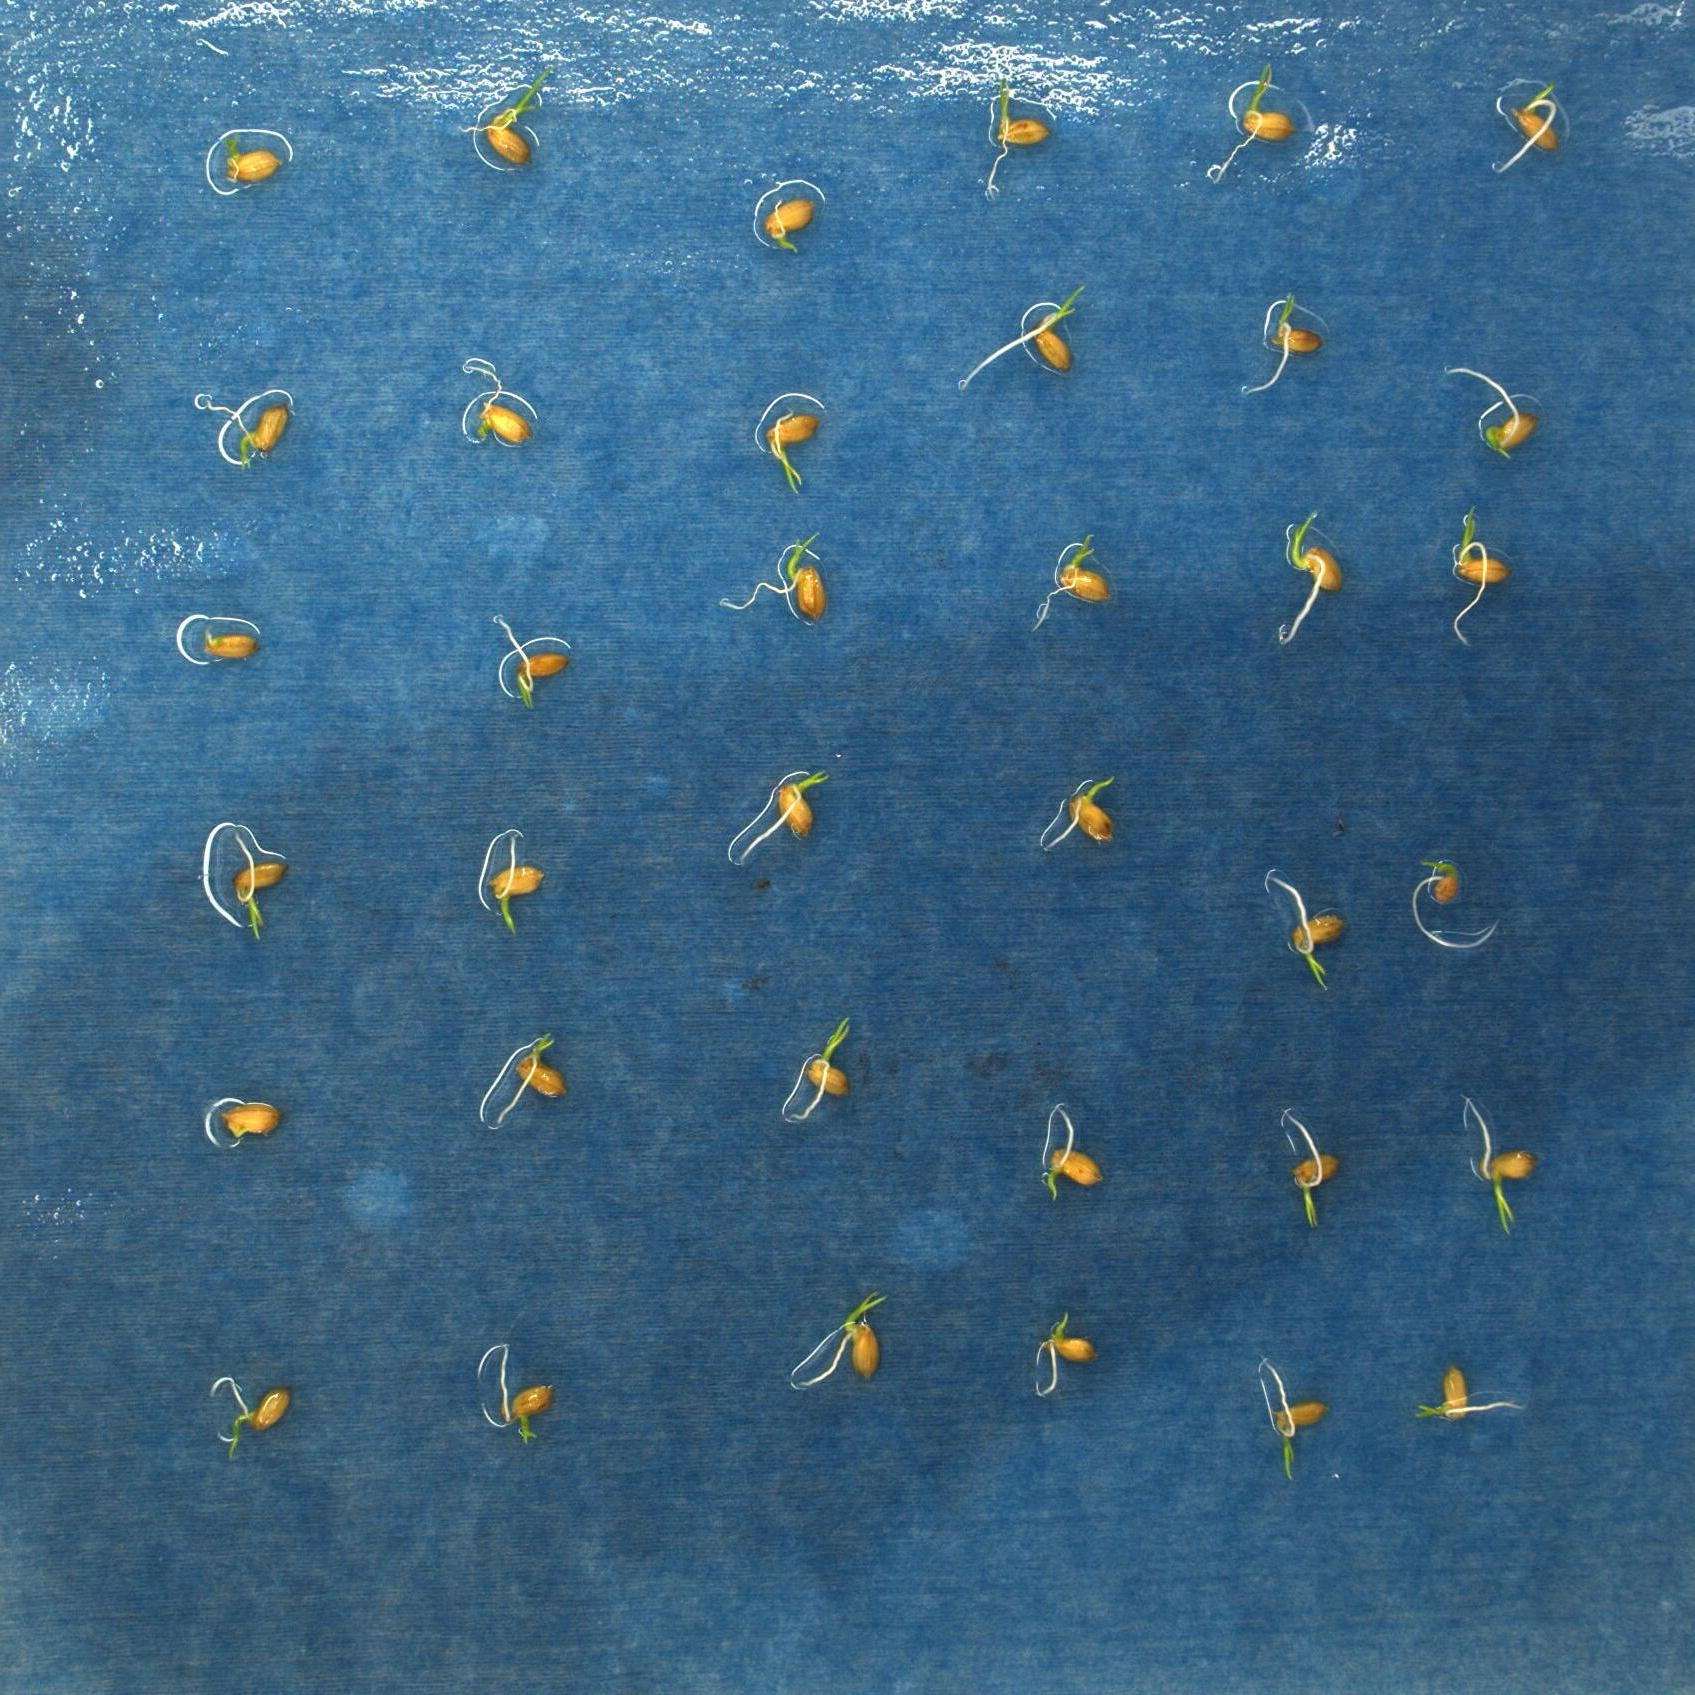not sprout: (467, 363, 532, 452), (200, 618, 261, 667), (220, 1097, 279, 1139)
sprout: (958, 284, 1087, 380), (1214, 61, 1295, 186), (722, 534, 829, 626), (1461, 1104, 1535, 1234), (737, 767, 832, 865), (461, 68, 556, 165), (1279, 512, 1343, 652), (1257, 1350, 1326, 1479), (1274, 872, 1346, 993), (1450, 363, 1538, 459), (487, 1032, 573, 1132), (1245, 293, 1322, 402), (979, 82, 1049, 199), (802, 1295, 893, 1385), (494, 605, 573, 705), (1412, 858, 1495, 951), (210, 1371, 293, 1458), (1451, 508, 1504, 643), (1492, 84, 1569, 172), (795, 1014, 857, 1124), (1035, 536, 1107, 629), (1038, 1102, 1105, 1201), (203, 393, 289, 470), (227, 826, 286, 938), (494, 1344, 557, 1444), (1285, 1111, 1336, 1225), (1414, 1371, 1530, 1420), (1038, 778, 1113, 852), (764, 407, 823, 494), (494, 827, 542, 933), (1034, 1316, 1094, 1392), (217, 130, 282, 182), (762, 192, 813, 255)
